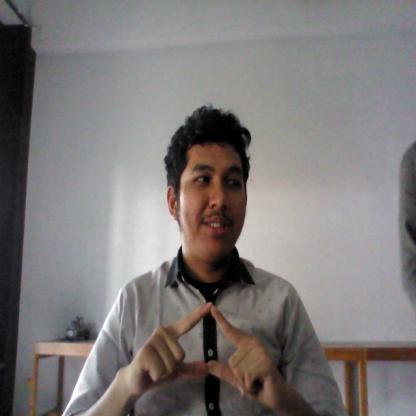A: (129, 300, 279, 408)
